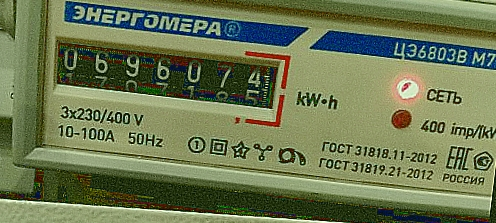0: (57, 43, 79, 70), (183, 56, 202, 84)
4: (244, 62, 263, 88)
5: (242, 86, 259, 106)
6: (90, 45, 112, 74), (151, 54, 171, 80)
7: (212, 60, 233, 88)
9: (120, 50, 141, 77)
screen: (35, 19, 295, 131)
